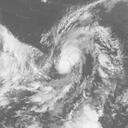cyclone: (44, 36, 95, 95)
